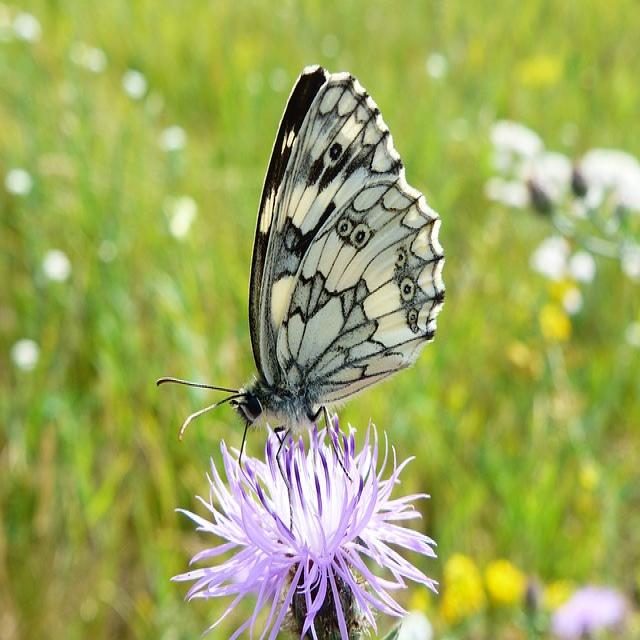butterfly: (209, 65, 446, 452)
